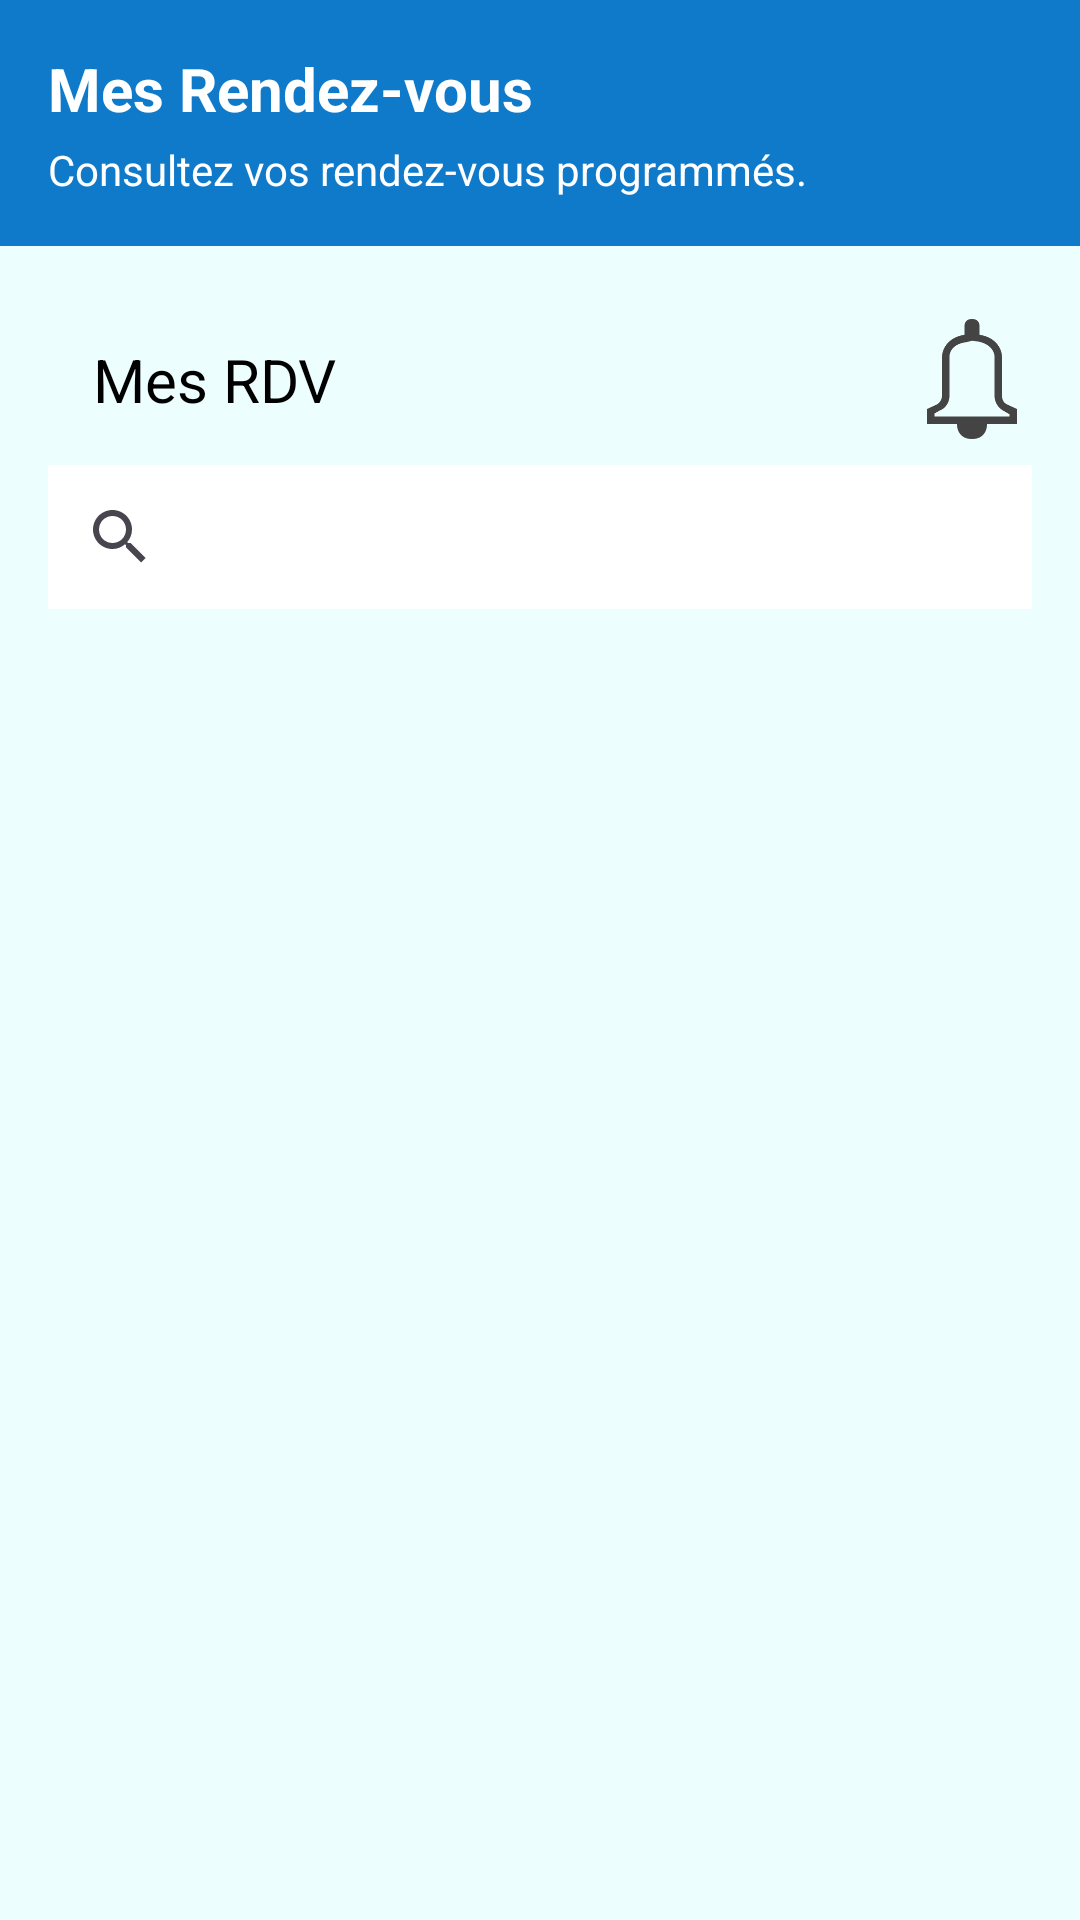

Point at icon controls on the screen. Image size 1080*1920, points as [x,y].
notif: [972,379]
